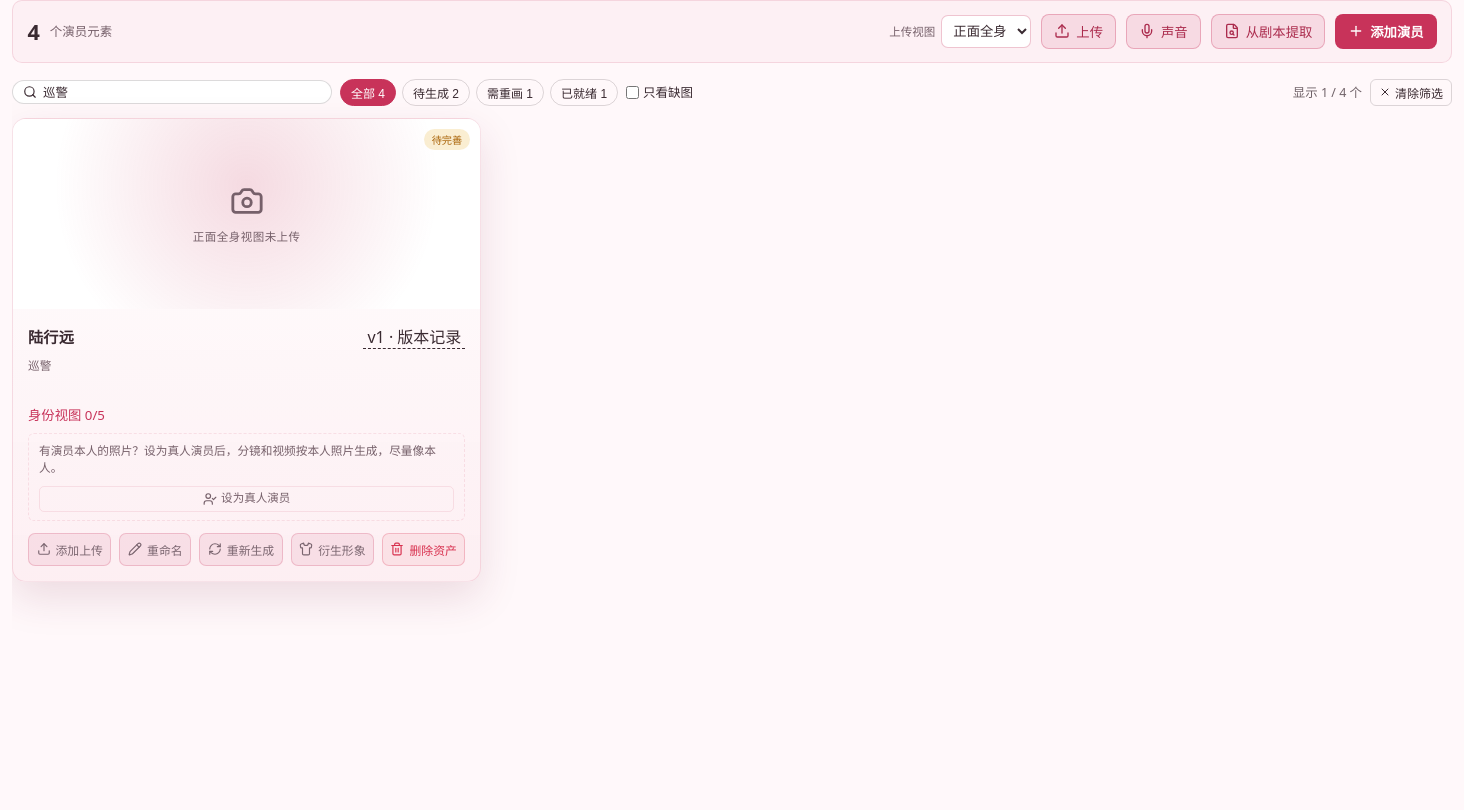
element filter bar in the library › filters the cards by search, status and missing image
Earlier steps of the test are not shown.
Check: the text "显示 1 / 4 个" is shown, box [1293,83,1362,101]
Click the button "清除筛选" at (1411, 92), box [1370,79,1452,106]
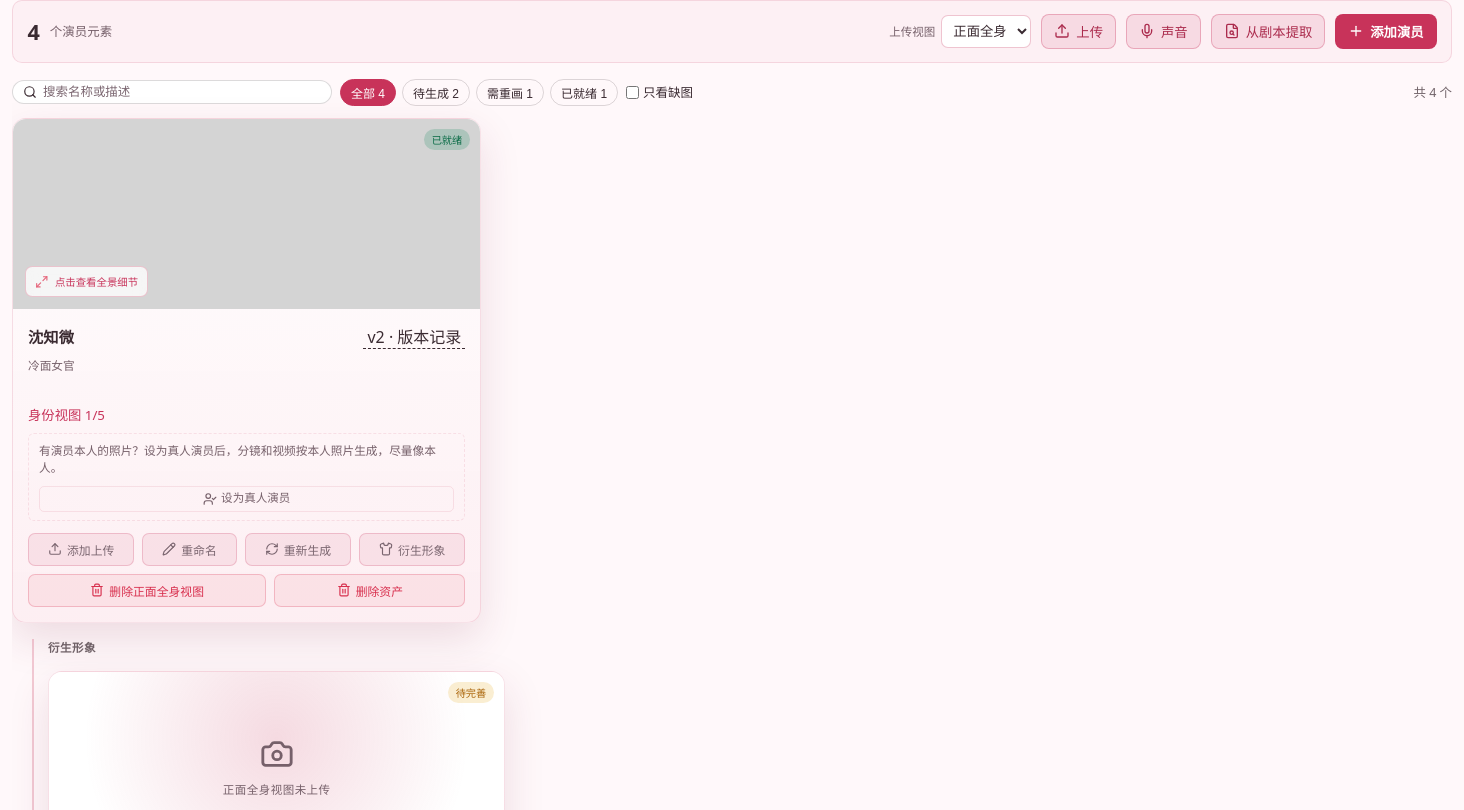
Click the button "需重画 1" at (510, 92), box [476,79,544,106]
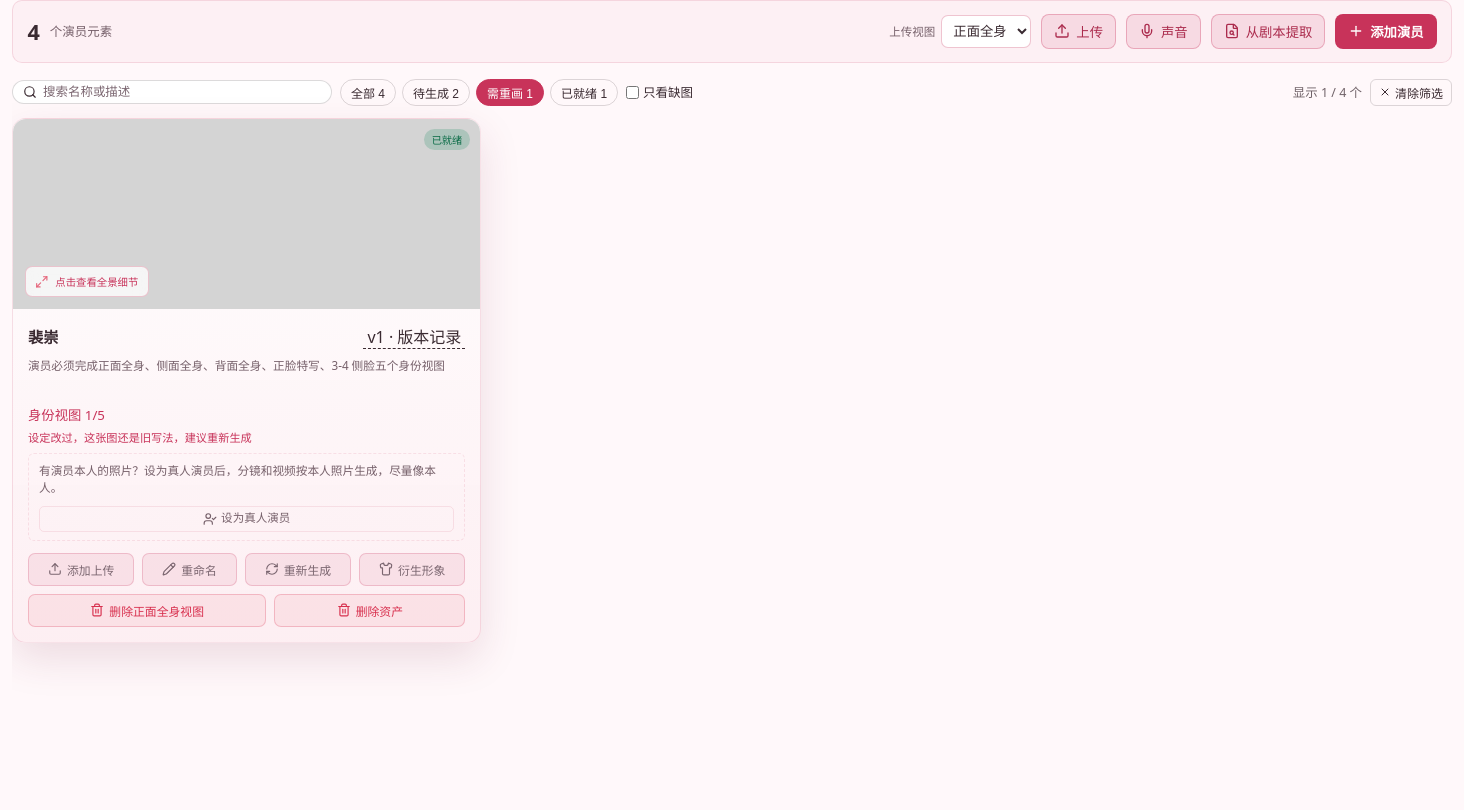
Click the button "待生成 2" at (436, 92), box [402,79,470,106]
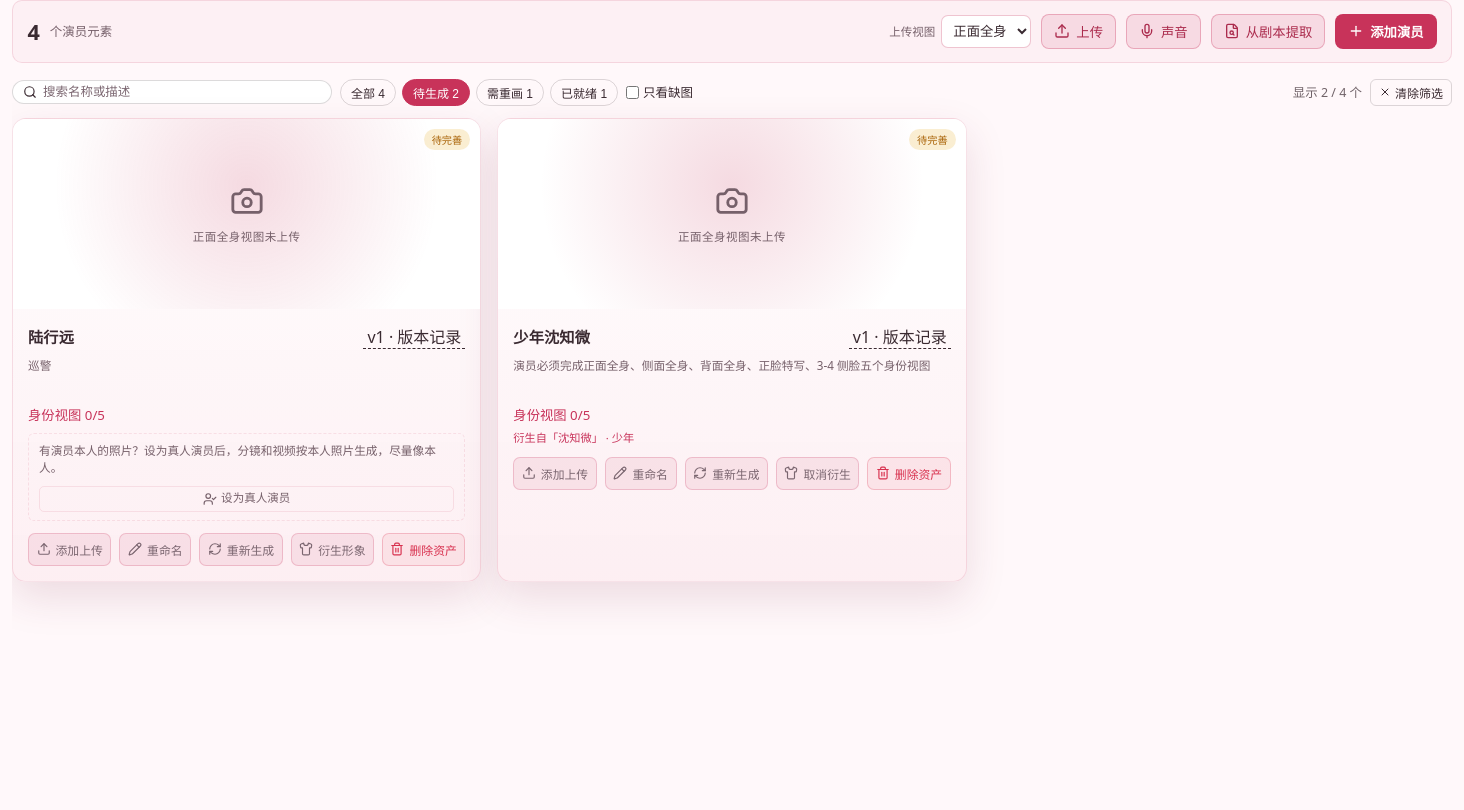
Click the button "全部 4" at (368, 92), box [340,79,396,106]
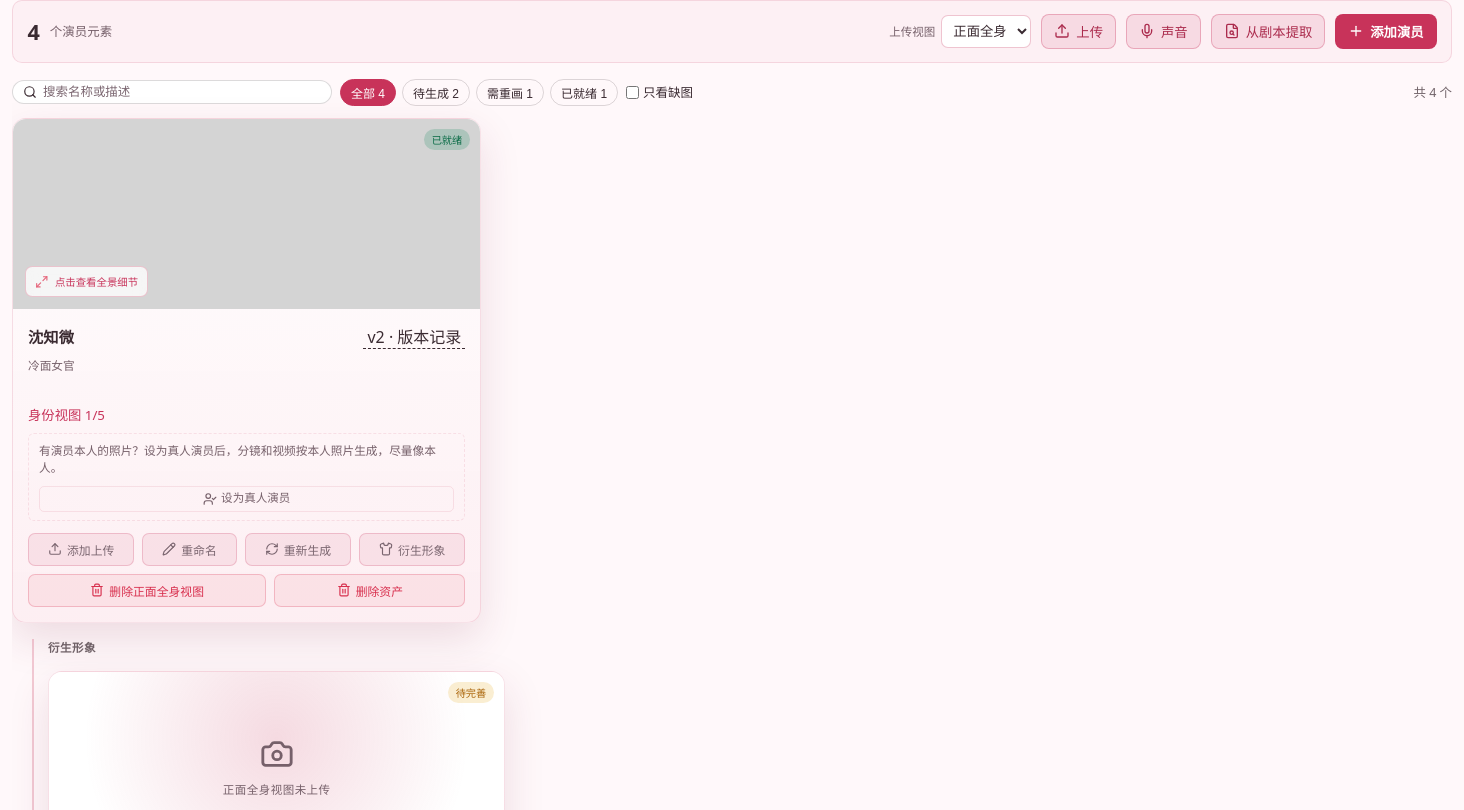
Click the checkbox labelled "只看缺图" at (633, 92), box [626,86,639,99]
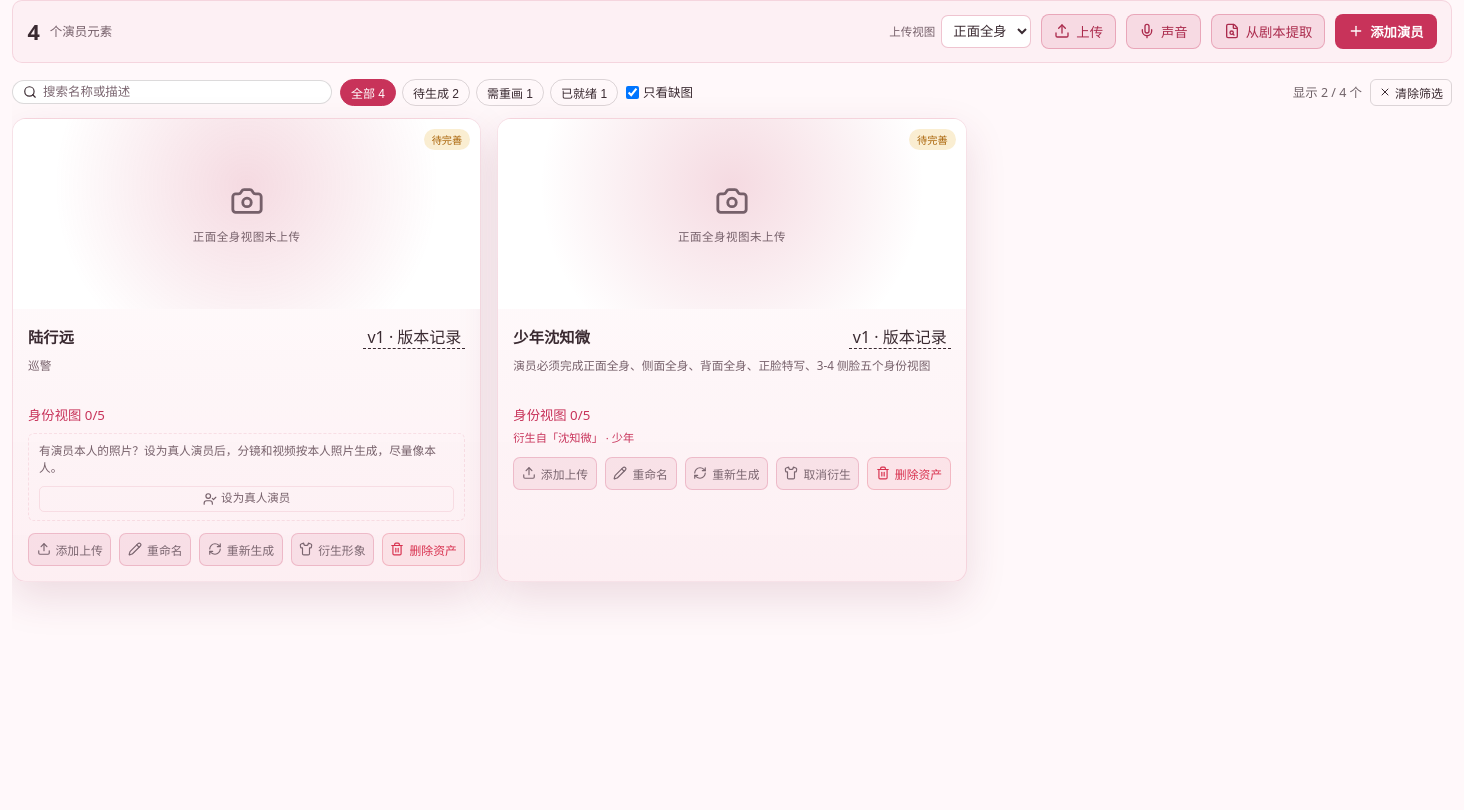
Type "不存在" into the search field labelled "搜索名称或描述" at (182, 92), box [43,85,321,99]
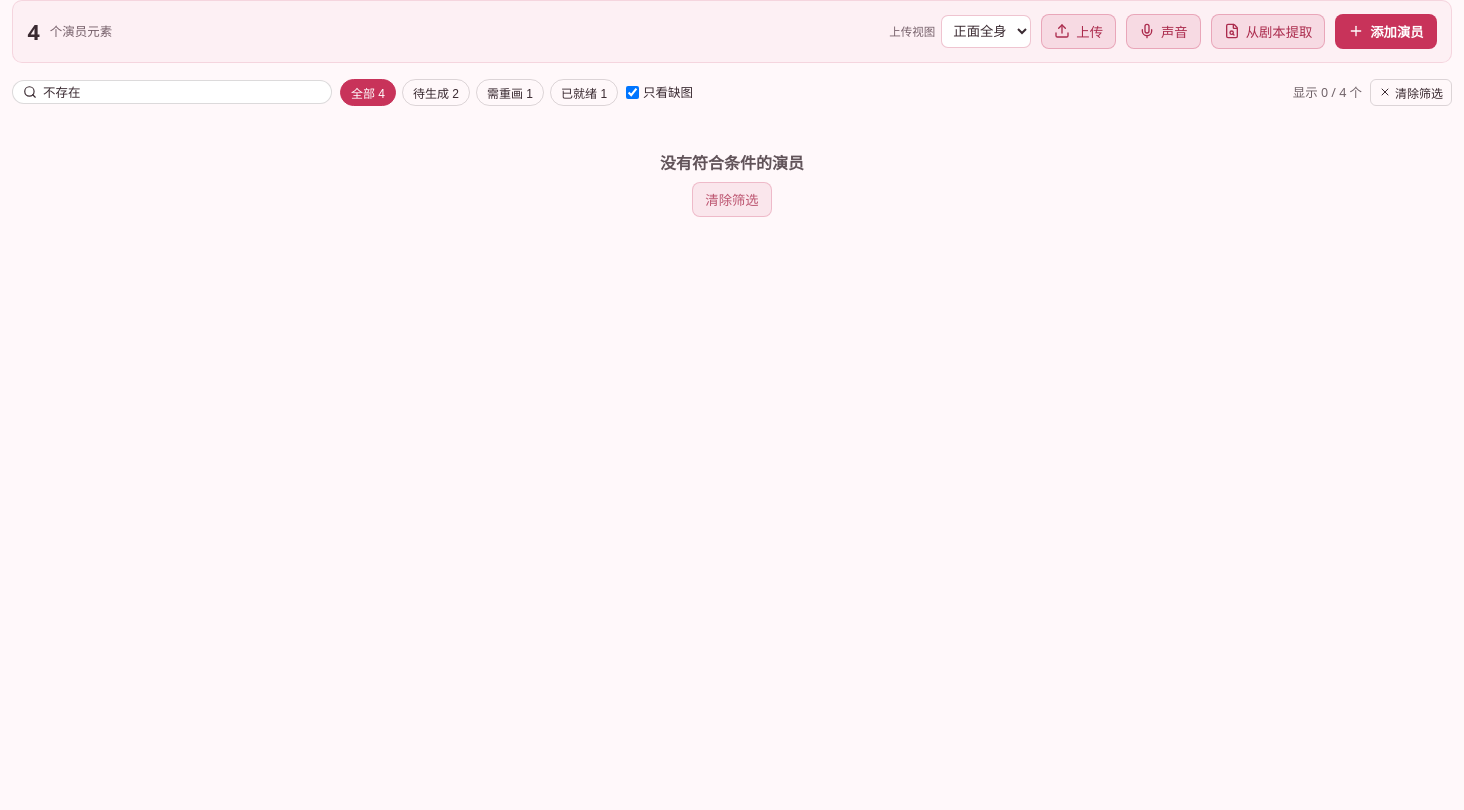
Check: the text "没有符合条件的演员" is shown, box [660,150,804,174]
